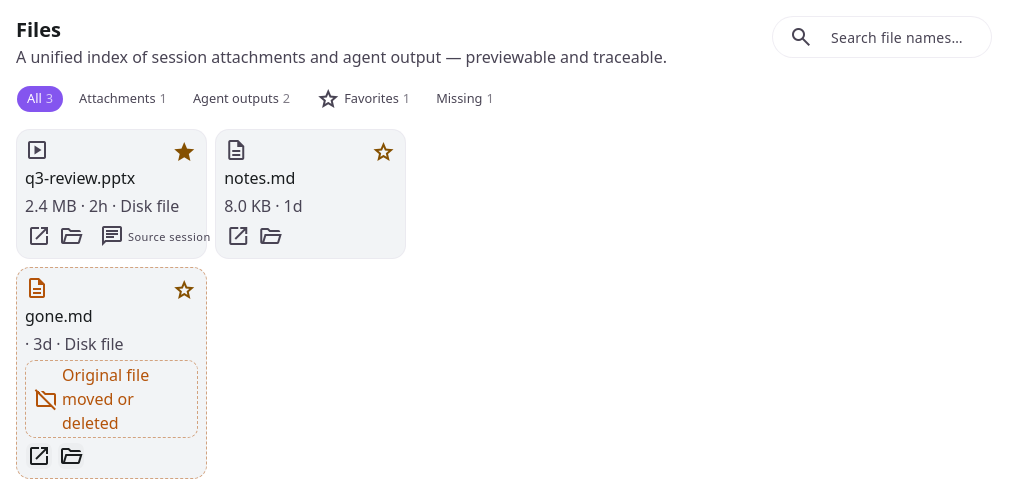
Test: FilesPage — R2 final sweep (subtitle, search, title join) › search filters by name or path (case-insensitive) and the pill counts ride along
The image size is (1009, 496).
Type "notes" into the field with test id "files-search" at (898, 37), box top-left (821, 21), bottom-right (975, 53)
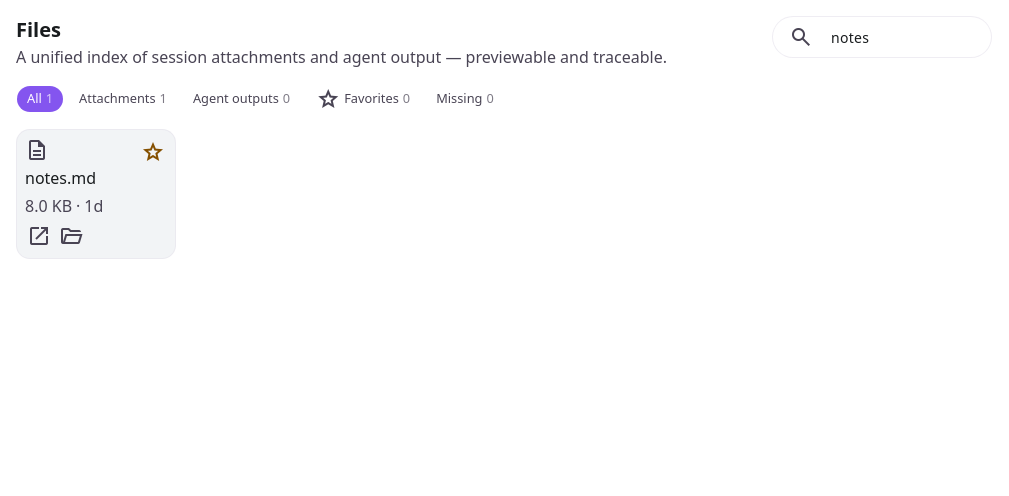
Check: the number of list items with test id "files-row" is 1, box top-left (16, 129), bottom-right (176, 259)
Check: the button "All 1" is shown, box top-left (16, 85), bottom-right (64, 113)
Check: the button "Agent outputs 0" is shown, box top-left (182, 85), bottom-right (301, 113)
Note: Path substring matches too — case-insensitively.
Replace the text in the field with test id "files-search" with "DOCUMENTS/GONE" at (898, 37), box top-left (821, 21), bottom-right (975, 53)
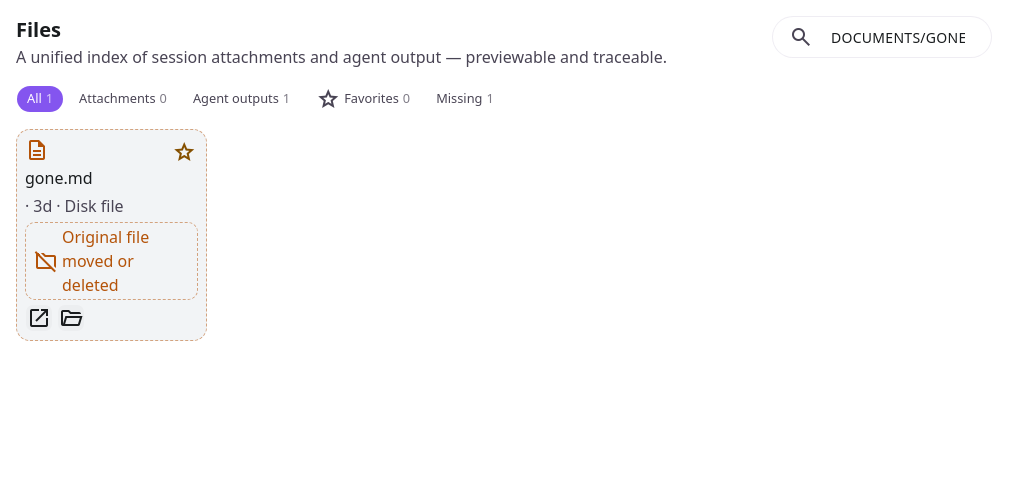
Check: the number of list items with test id "files-row" is 1, box top-left (16, 129), bottom-right (207, 341)
Check: the list item with test id "files-row" shows "gone.md", box top-left (25, 138), bottom-right (198, 300)
Note: No hit at all → the empty state, not a silent blank grid.
Replace the text in the field with test id "files-search" with "no-such-file-xyz" at (898, 37), box top-left (821, 21), bottom-right (975, 53)
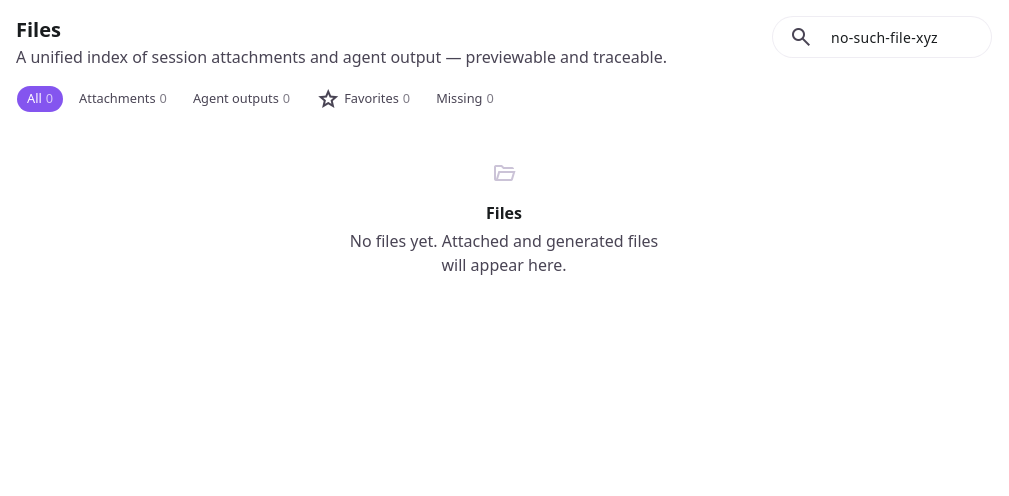
Check: the text "No files yet. Attached and generated files will appear here." is shown, box top-left (344, 229), bottom-right (664, 277)
Press Escape in the field with test id "files-search", box top-left (821, 21), bottom-right (975, 53)
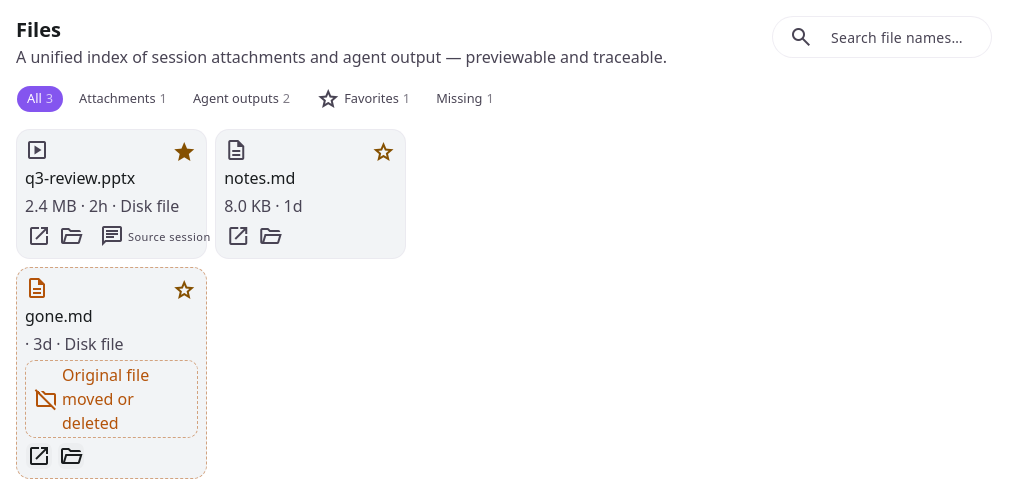
Check: the number of list items with test id "files-row" is 3, box top-left (16, 129), bottom-right (207, 259); top-left (215, 129), bottom-right (406, 259); top-left (16, 267), bottom-right (207, 479)
Check: the field with test id "files-search" is empty, box top-left (821, 21), bottom-right (975, 53)
